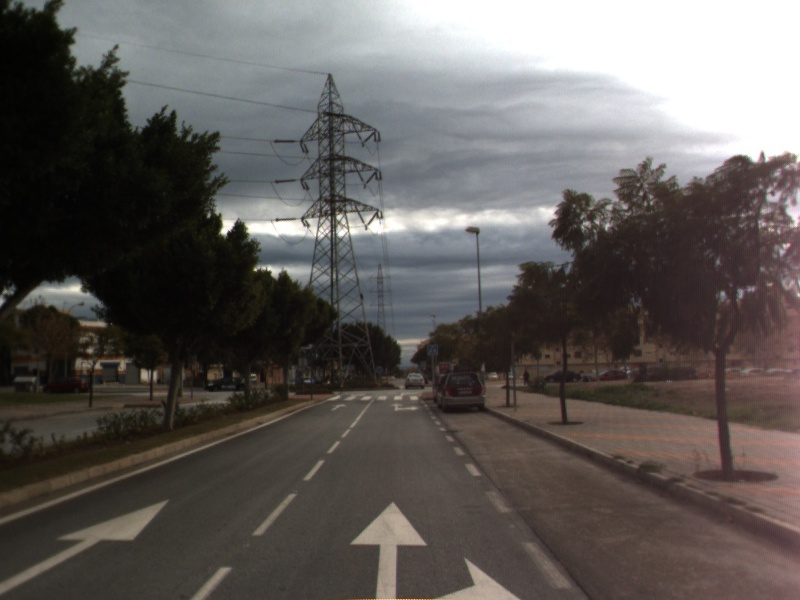STRAIGHT: (1, 496, 174, 591), (328, 401, 349, 413)
STRAIGHT_RIGHT: (346, 495, 525, 600), (388, 401, 421, 413)
